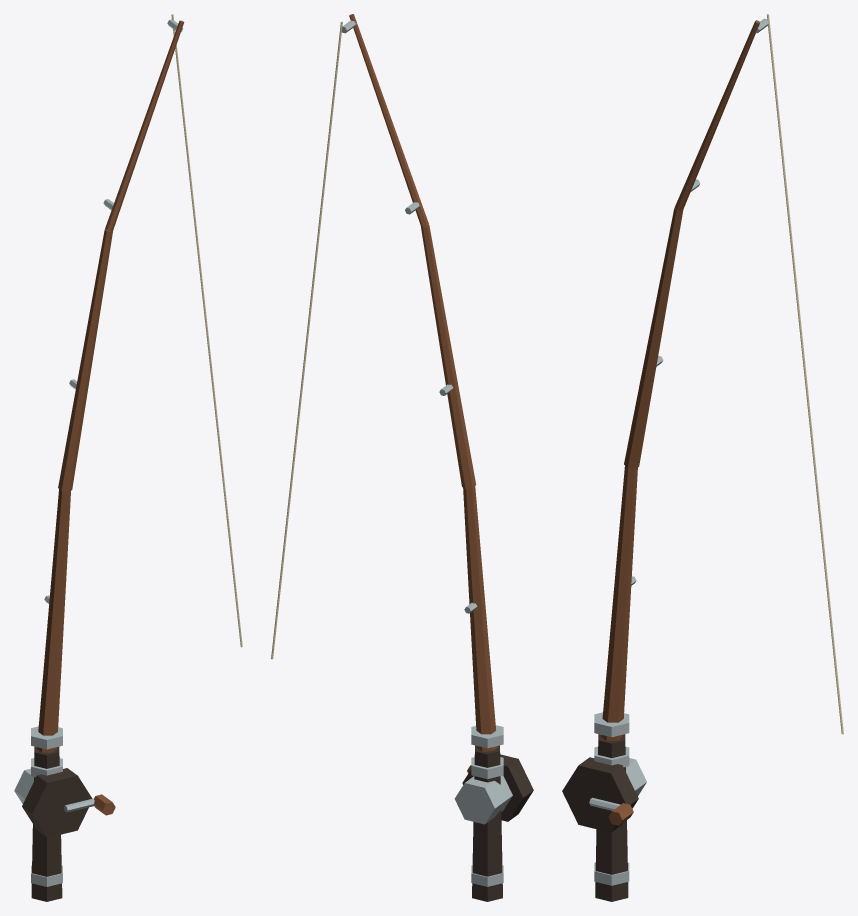
Rendered from fishing_rod.glb.
3 views of the same model, side by side, from view 1: azimuth 30°, elevation 25°; view 2: azimuth 150°, elevation 25°; view 3: azimuth 330°, elevation 25° (orthographic). The views are drawn at different scales.
Visible parts, largest first — view 1: fishing_rod_Mesh; view 2: fishing_rod_Mesh; view 3: fishing_rod_Mesh.
Boxes of the visible parts, <box> form: fishing_rod_Mesh: <box>14,14,242,901</box>; fishing_rod_Mesh: <box>271,14,533,901</box>; fishing_rod_Mesh: <box>562,14,843,901</box>.
Bounding box in the file's own units: 0.6452 × 2.2 × 0.2.
